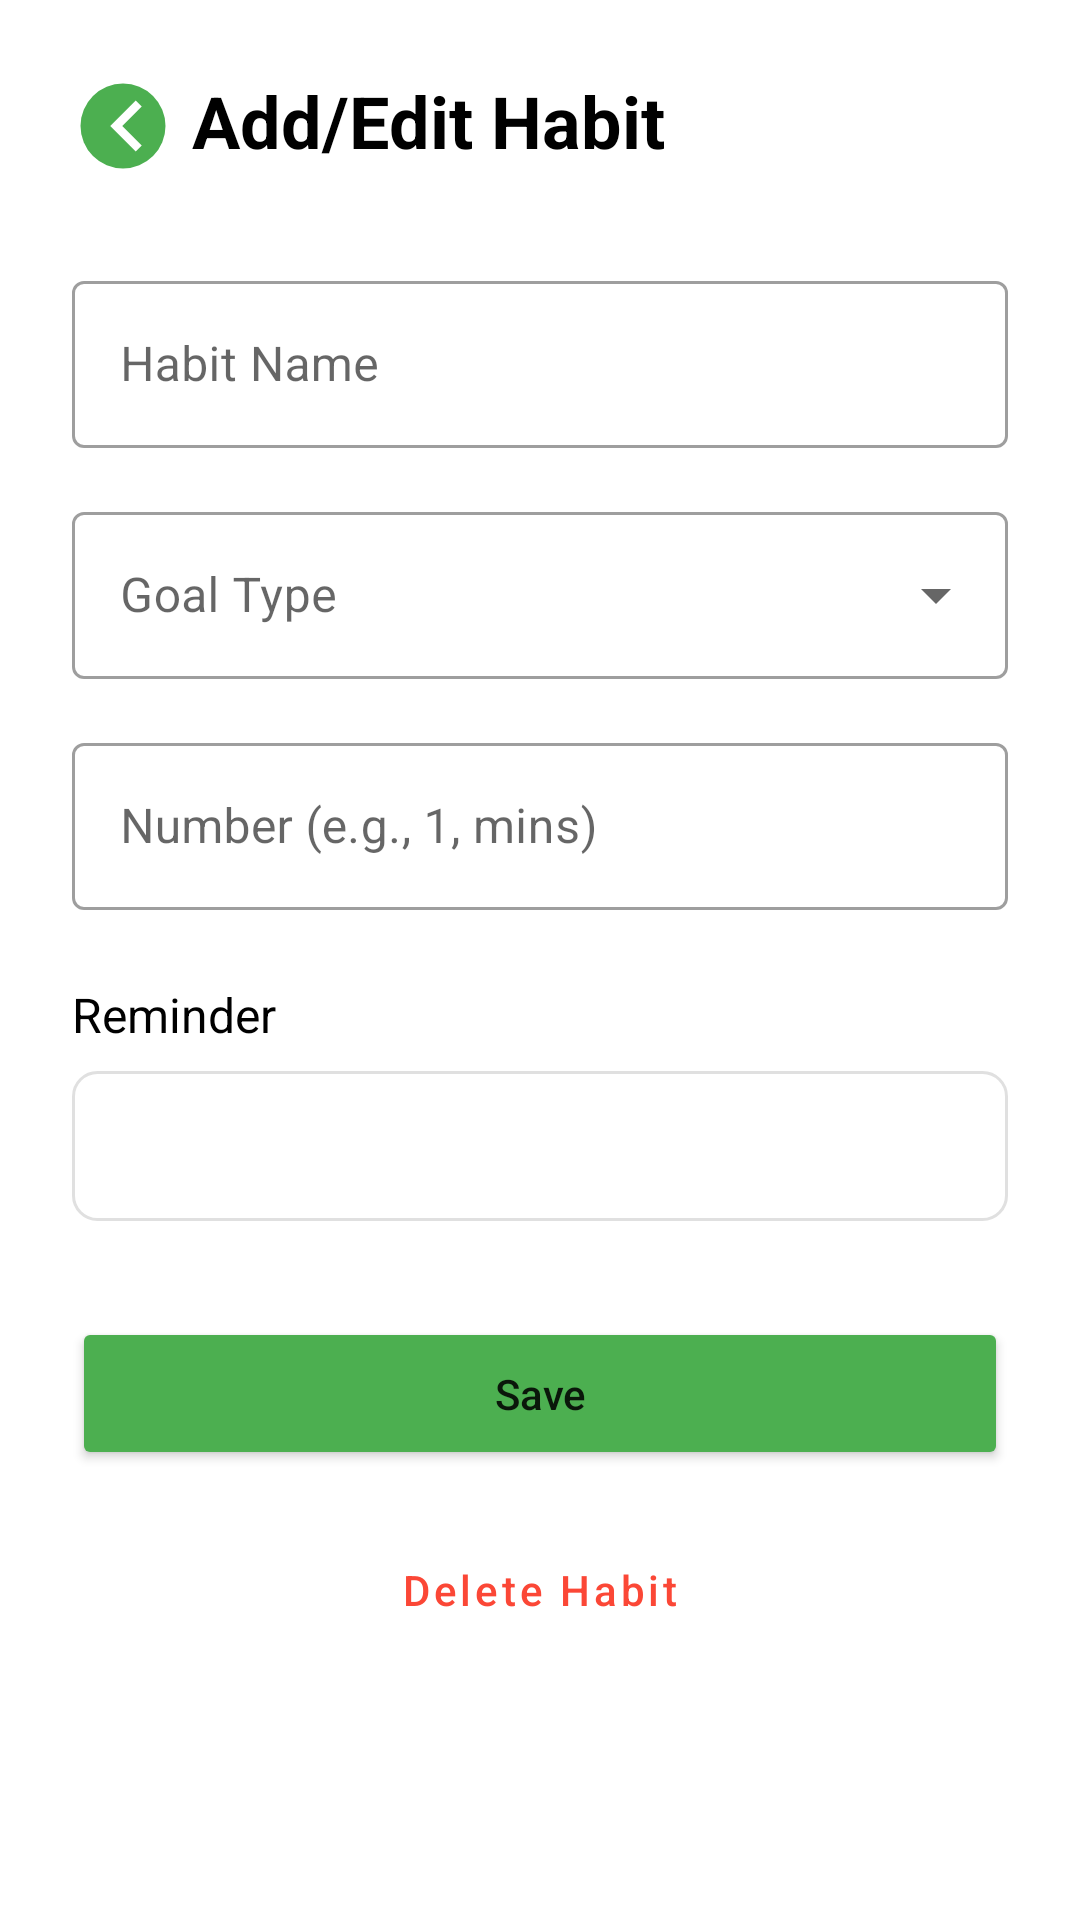

Locate icon controls on the screen. Image size 1080*1920, boxes as (x1, y1, x2, y2).
back: (80, 83, 166, 169)
